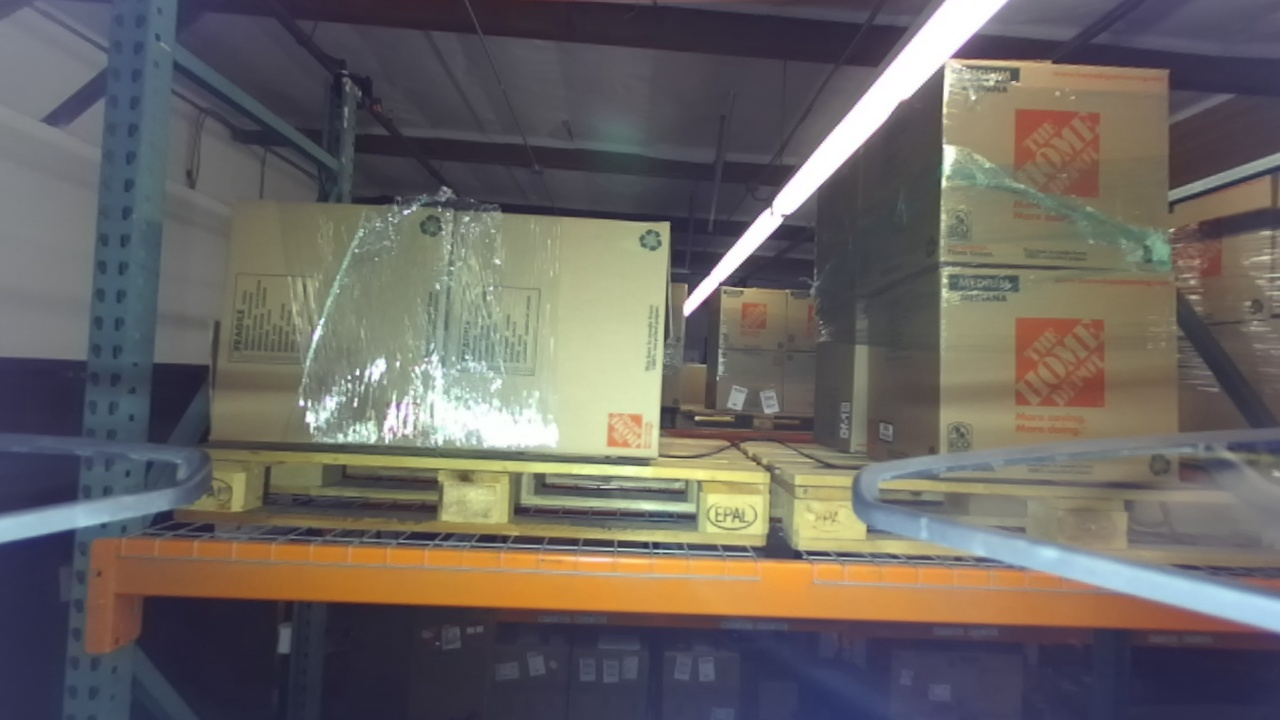box: (864, 256, 1202, 518), (422, 191, 684, 490), (858, 50, 1185, 275), (201, 192, 463, 466)
